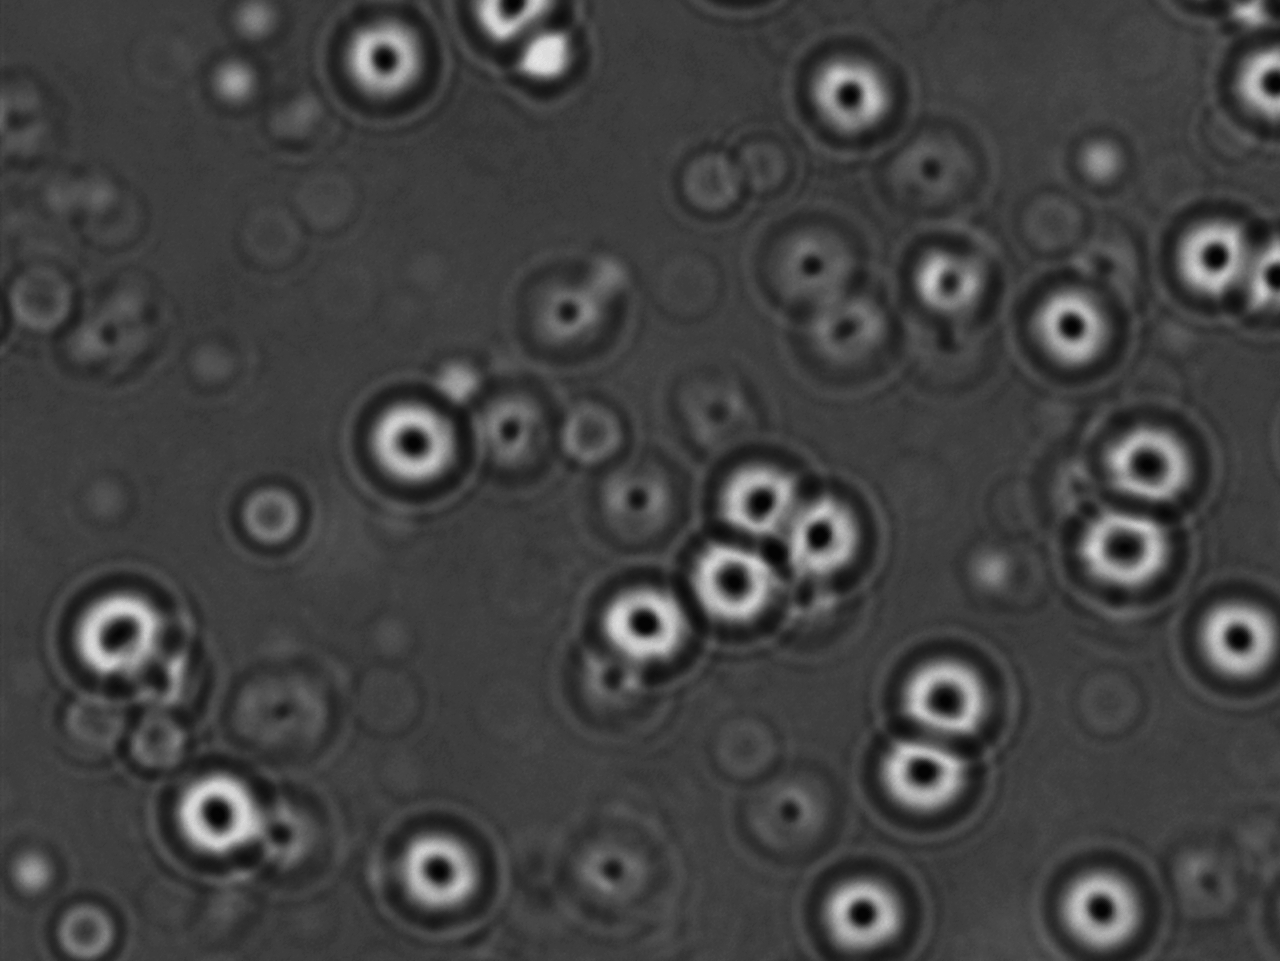depth:16: (339, 379, 486, 513), (43, 563, 182, 691), (1050, 492, 1179, 616), (882, 628, 1014, 750), (1154, 188, 1272, 320), (801, 847, 940, 959), (1040, 839, 1167, 961), (371, 806, 499, 927), (786, 35, 917, 153), (671, 521, 789, 650), (588, 572, 711, 690), (1086, 402, 1212, 517), (152, 765, 280, 879), (1017, 261, 1135, 384), (864, 714, 983, 833), (696, 442, 815, 560), (766, 477, 885, 596), (1172, 577, 1280, 708), (330, 4, 445, 126), (1220, 36, 1280, 145)
